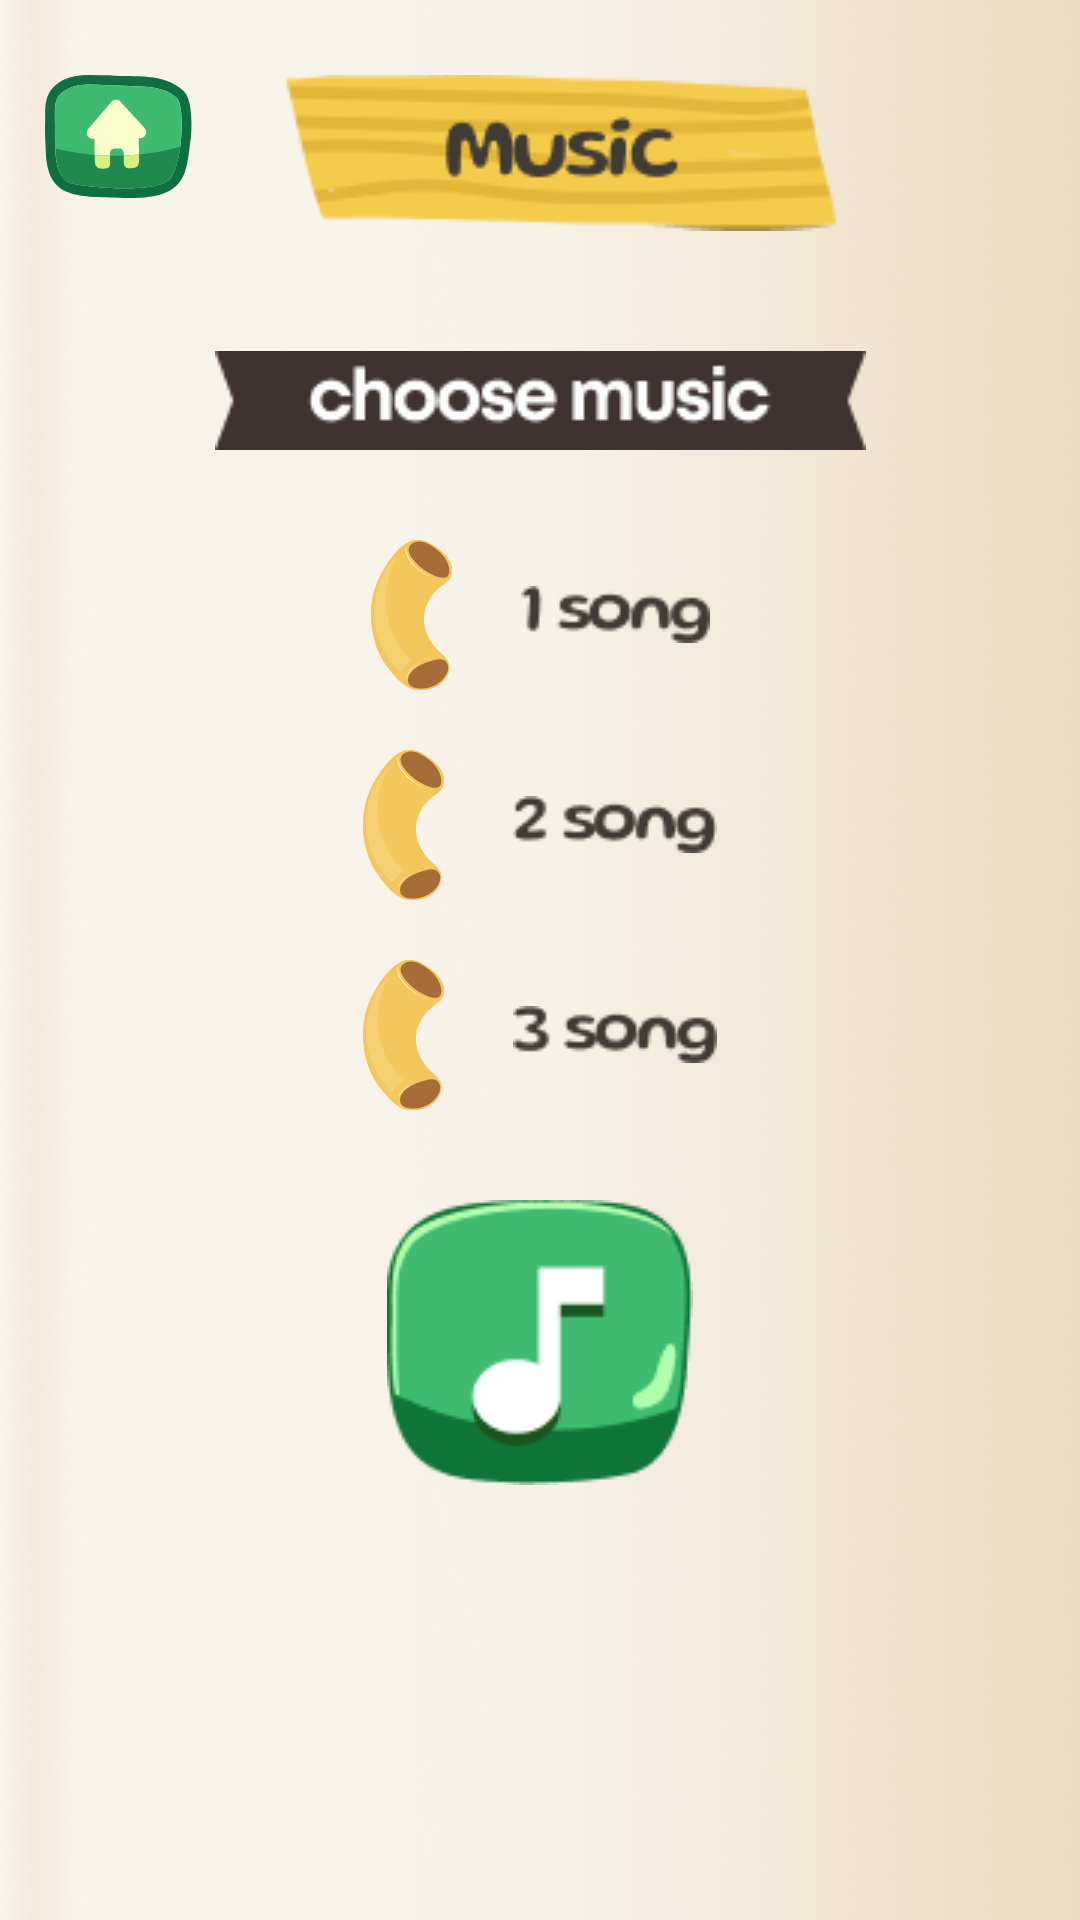

Icon click points for this 1080px×1920px phone screenshot, format (x,y):
back home: (118,136)
